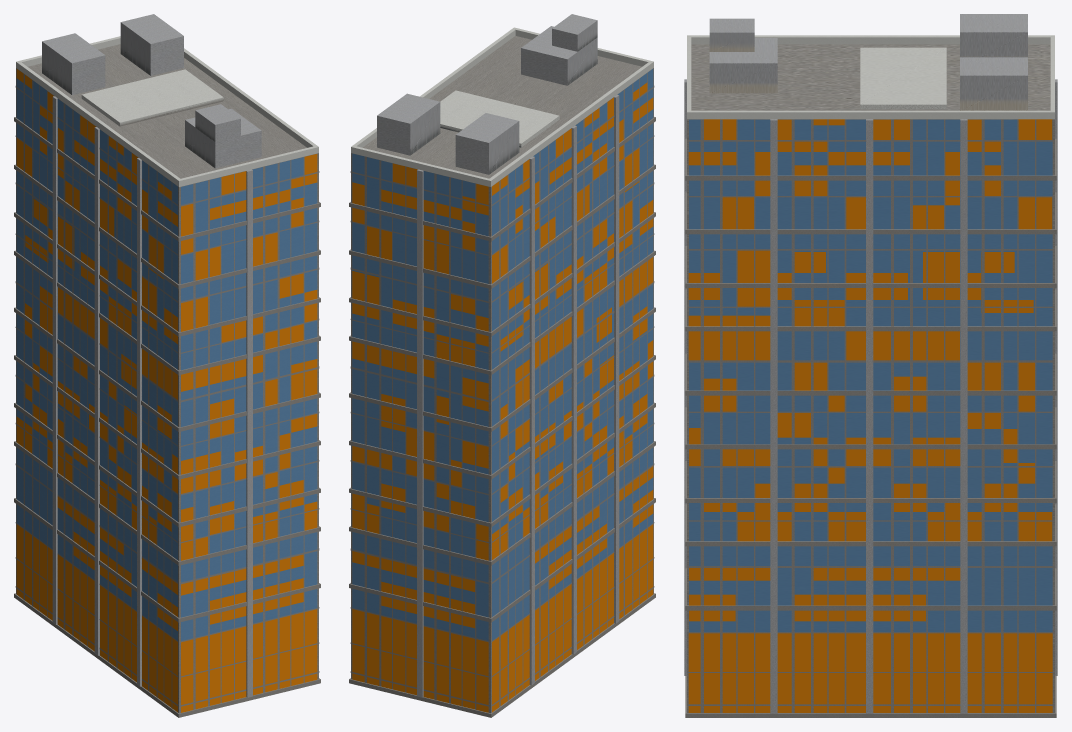
File: House_3.fbx
The picture shows the model from 3 angles, left to right: view 1: azimuth 30°, elevation 25°; view 2: azimuth 150°, elevation 25°; view 3: azimuth 270°, elevation 25°; orthographic projection. The views are drawn at different scales.
Visible parts, largest first — view 1: House_3, Glass, GlassLighted; view 2: House_3, Glass, GlassLighted; view 3: House_3, Glass, GlassLighted.
Part boxes in pixels (x1,y1,x2,y2): House_3: [14, 14, 320, 717]; Glass: [16, 78, 317, 640]; GlassLighted: [16, 69, 317, 712]; House_3: [349, 14, 655, 717]; Glass: [352, 69, 653, 640]; GlassLighted: [352, 82, 653, 712]; House_3: [684, 14, 1057, 717]; Glass: [689, 119, 1052, 631]; GlassLighted: [688, 119, 1052, 712].
Bounding box in the file's own units: 51.46 × 196 × 102.
